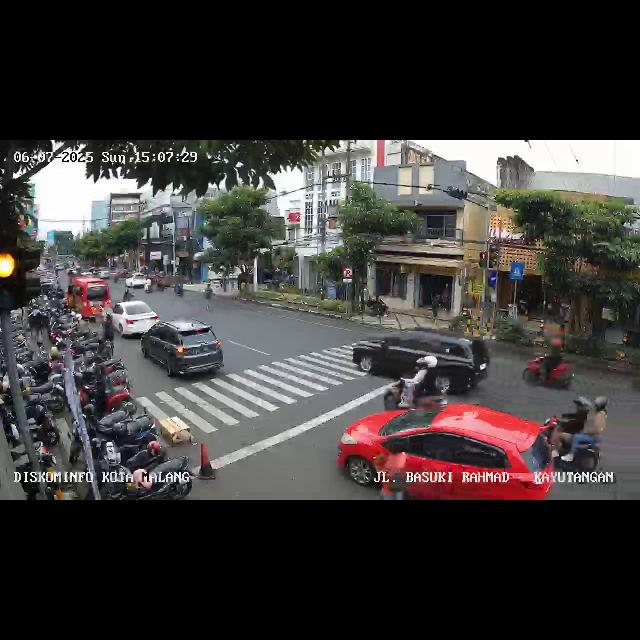car: (341, 404, 554, 500), (349, 326, 488, 390), (142, 321, 226, 382), (66, 275, 110, 321), (106, 302, 158, 336), (124, 273, 154, 293)
motorcycle: (536, 403, 606, 489), (384, 346, 458, 410), (520, 336, 576, 392), (203, 280, 215, 304)
